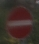No entry: (6, 5, 34, 39)
